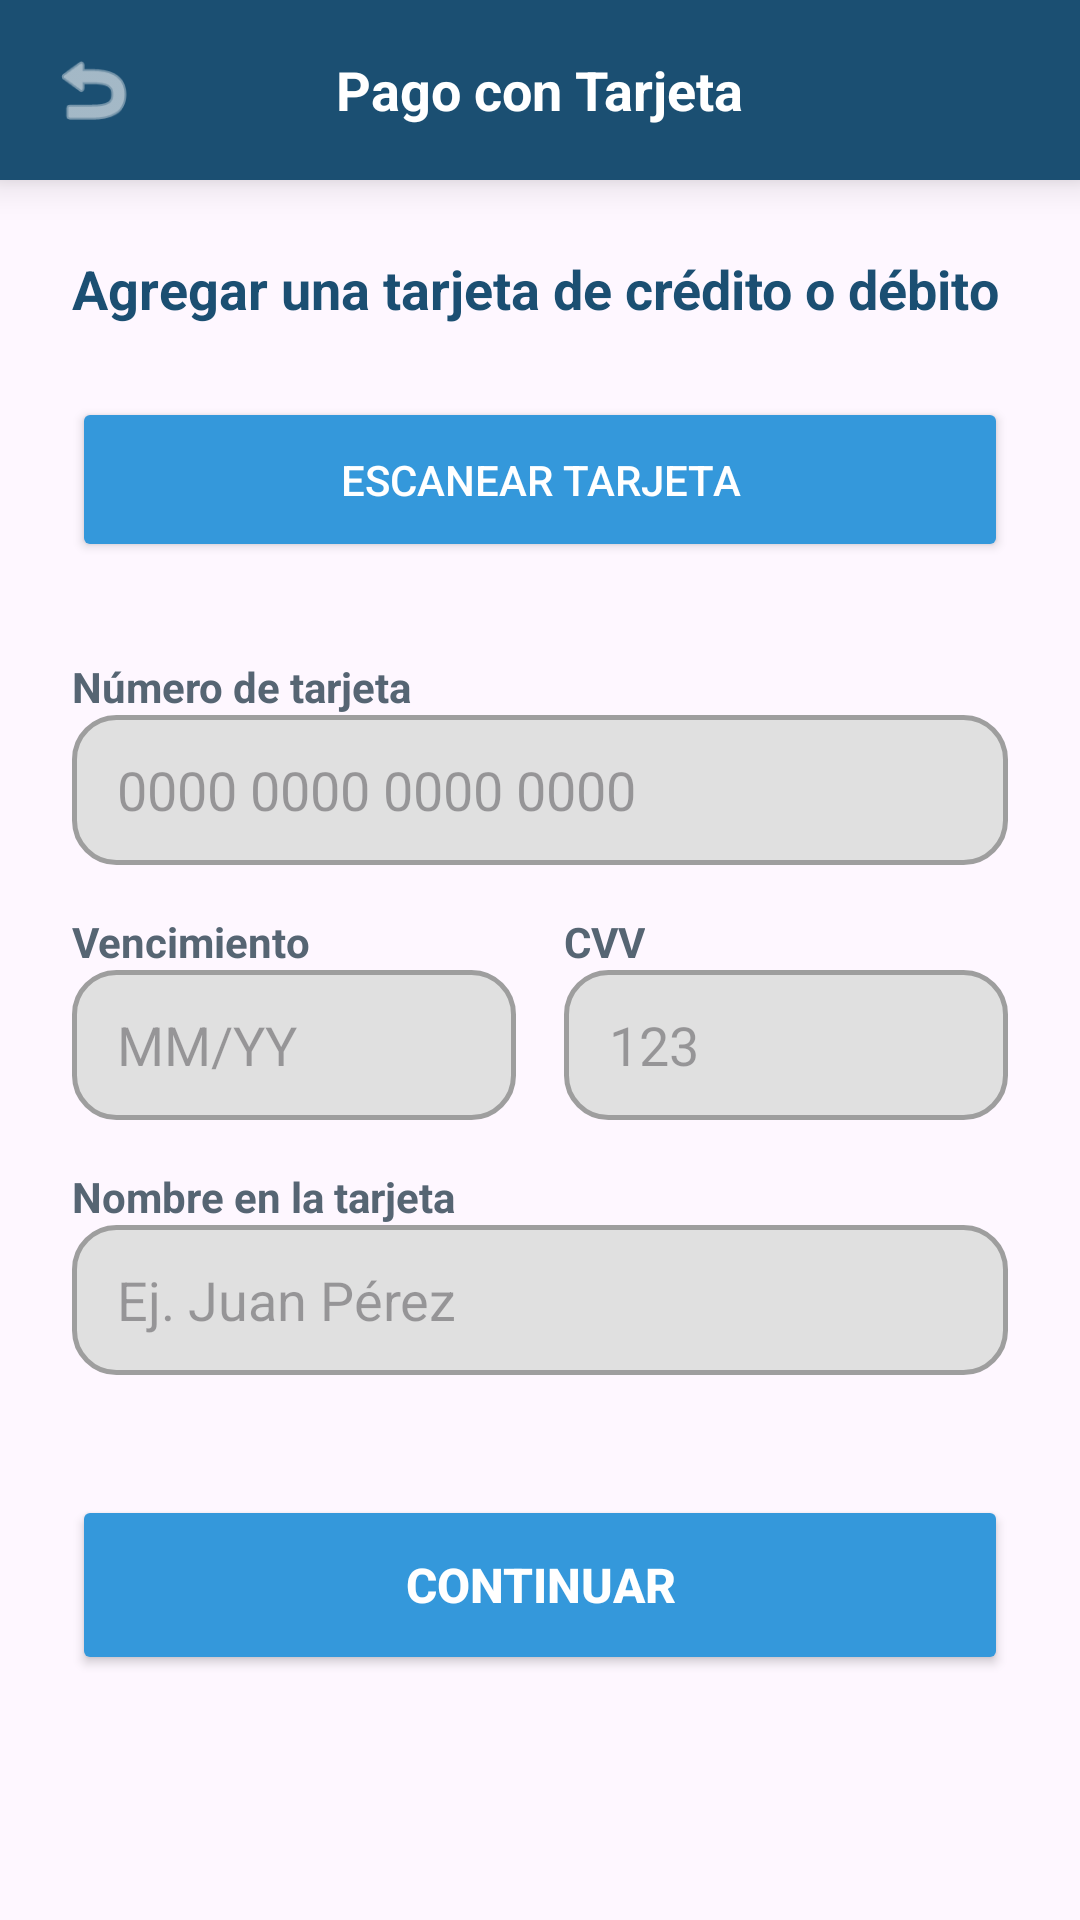

Icon bounding boxes for this 1080px×1920px phone screenshot, format bbox(x1, y1, x2, y2):
Atrás: bbox(62, 61, 127, 120)
